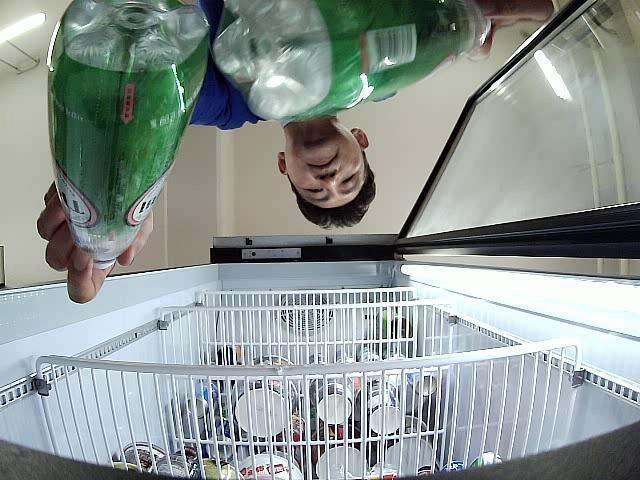18_trevi: (48, 1, 208, 268), (213, 0, 492, 122)
